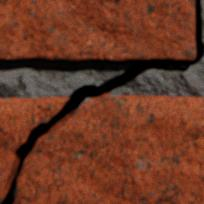brick: (0, 0, 195, 60)
broken_brick: (14, 94, 203, 203), (0, 96, 69, 202)
crack: (0, 0, 203, 203)
